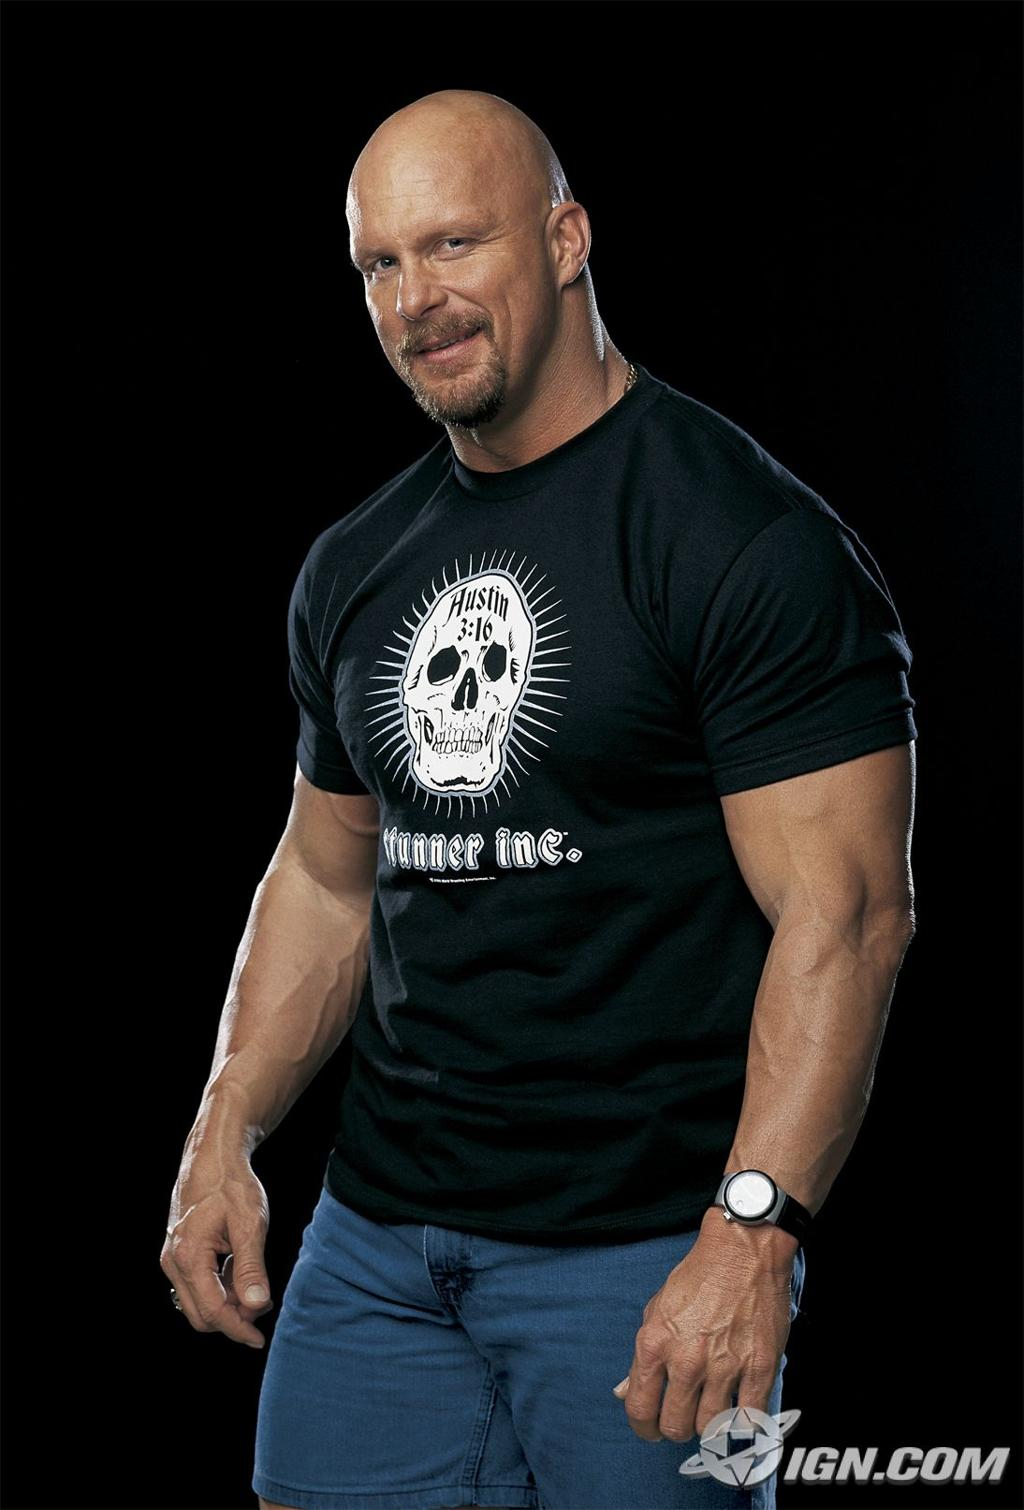face: (345, 133, 546, 402)
